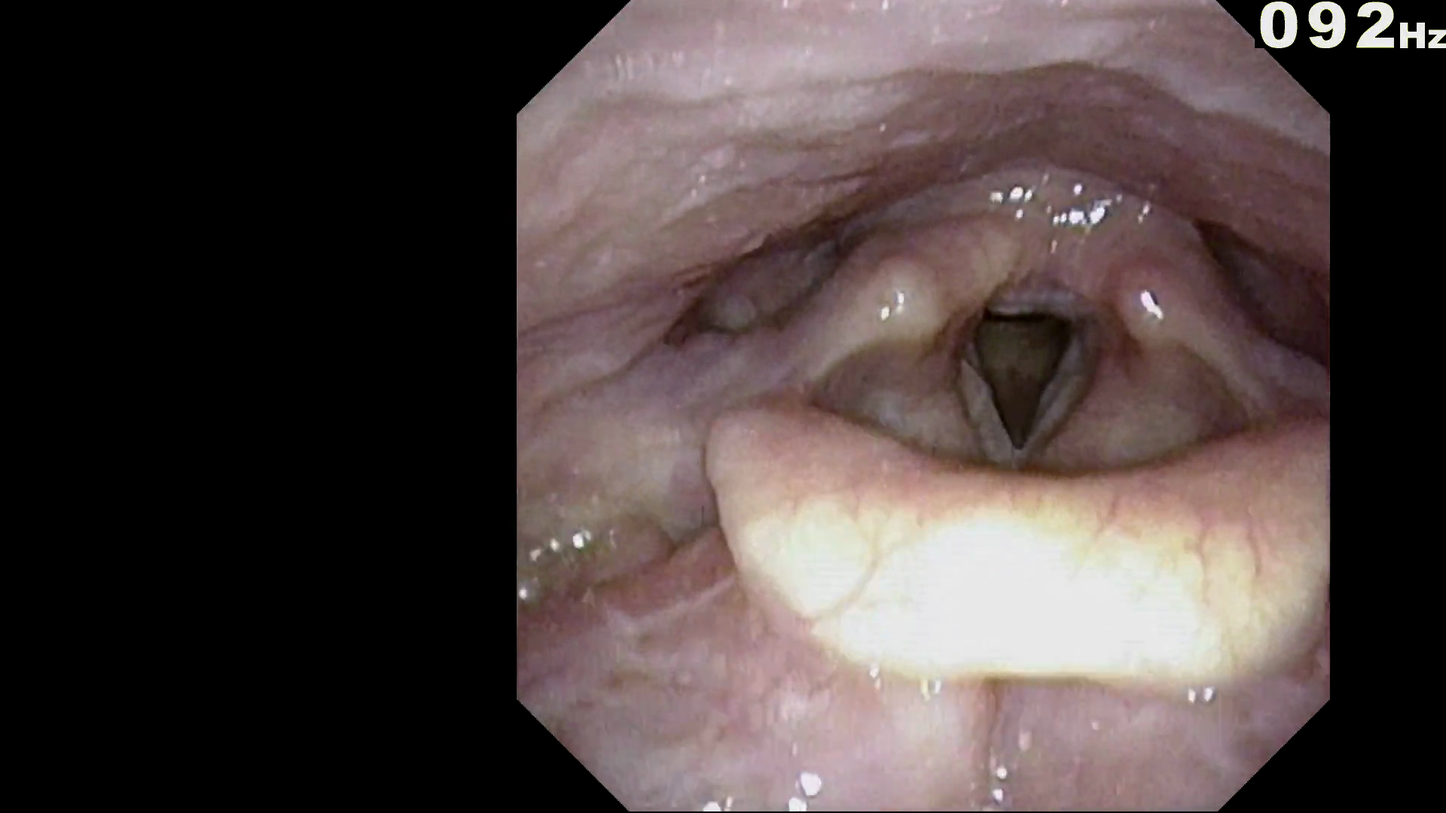epiglottis: (694, 390, 1315, 684)
trachea: (935, 274, 1115, 485)
